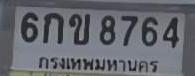4: (162, 16, 178, 47)
6: (20, 11, 37, 41), (141, 16, 157, 45)
7: (120, 15, 137, 45)
8: (99, 14, 114, 44)
A01: (42, 12, 63, 43)
A02: (68, 13, 89, 44)
BKK: (34, 55, 160, 75)
